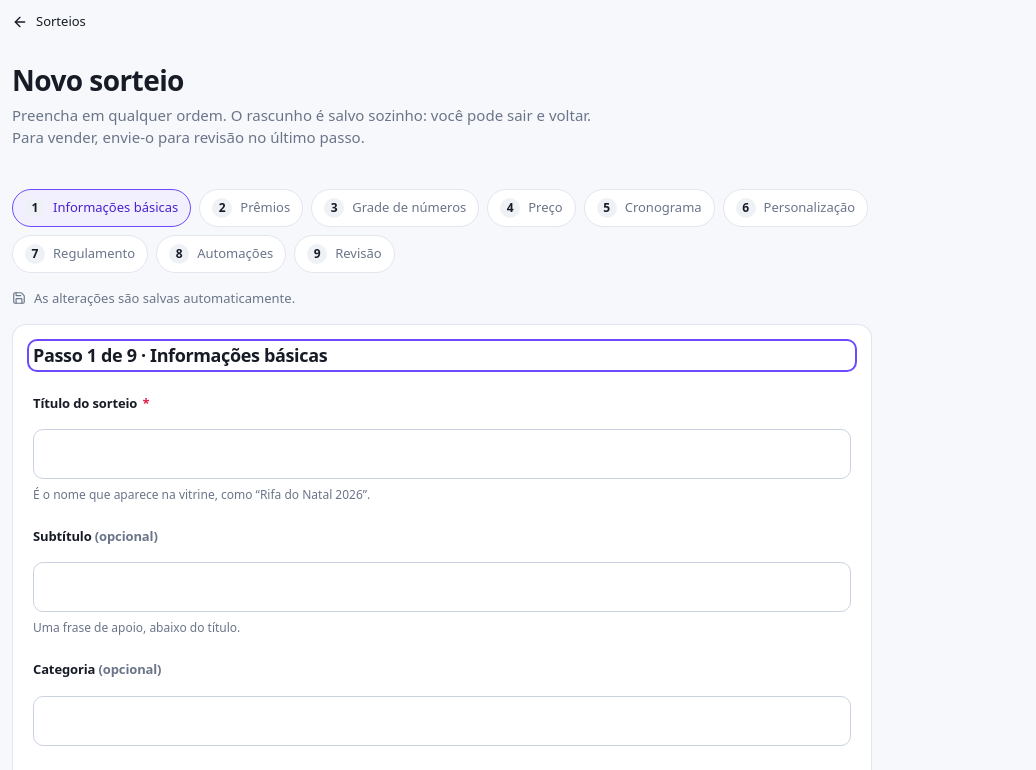
passos › foto do premio e enviada (sem campo de link tecnico); o que ainda nao existe aparece como futuro, sem campos falsos
What coordinates should you click on to do the following:
click the button "2 Prêmios"
I would click on:
 (251, 208)
Its box is left=199, top=189, right=303, bottom=227.
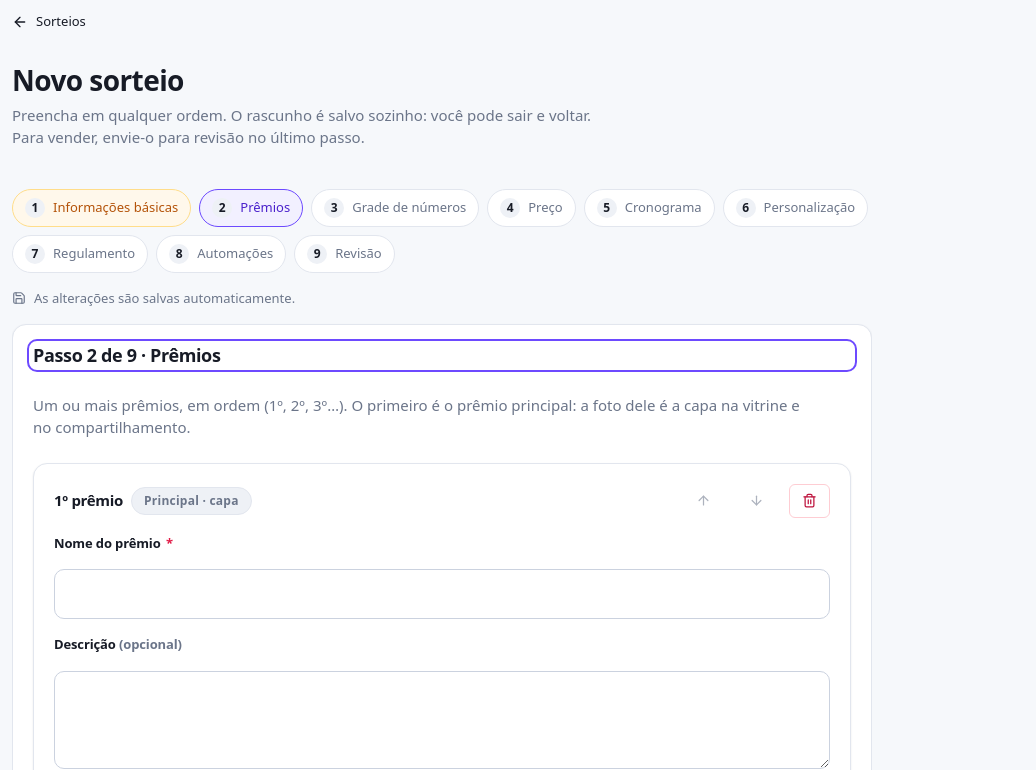
What coordinates should you click on to do the following:
click the button "4 Preço"
I would click on:
 (532, 208)
Its box is left=487, top=189, right=576, bottom=227.
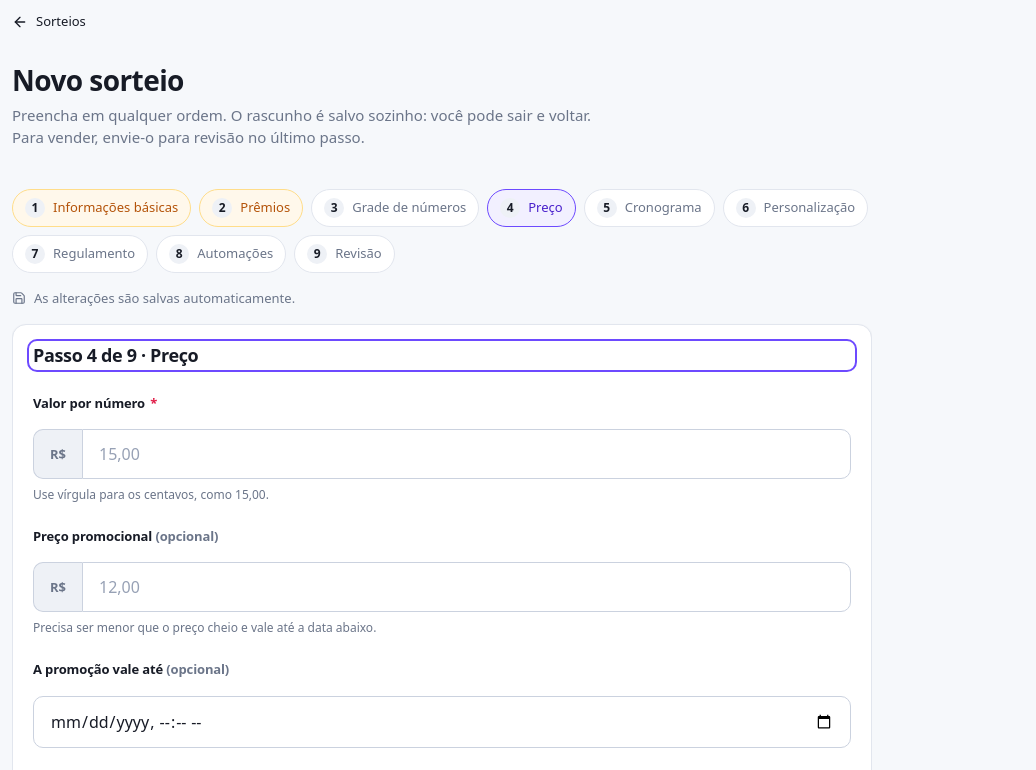
What coordinates should you click on to do the following:
click the button "8 Automações"
I would click on:
 (221, 254)
Its box is left=156, top=235, right=286, bottom=273.
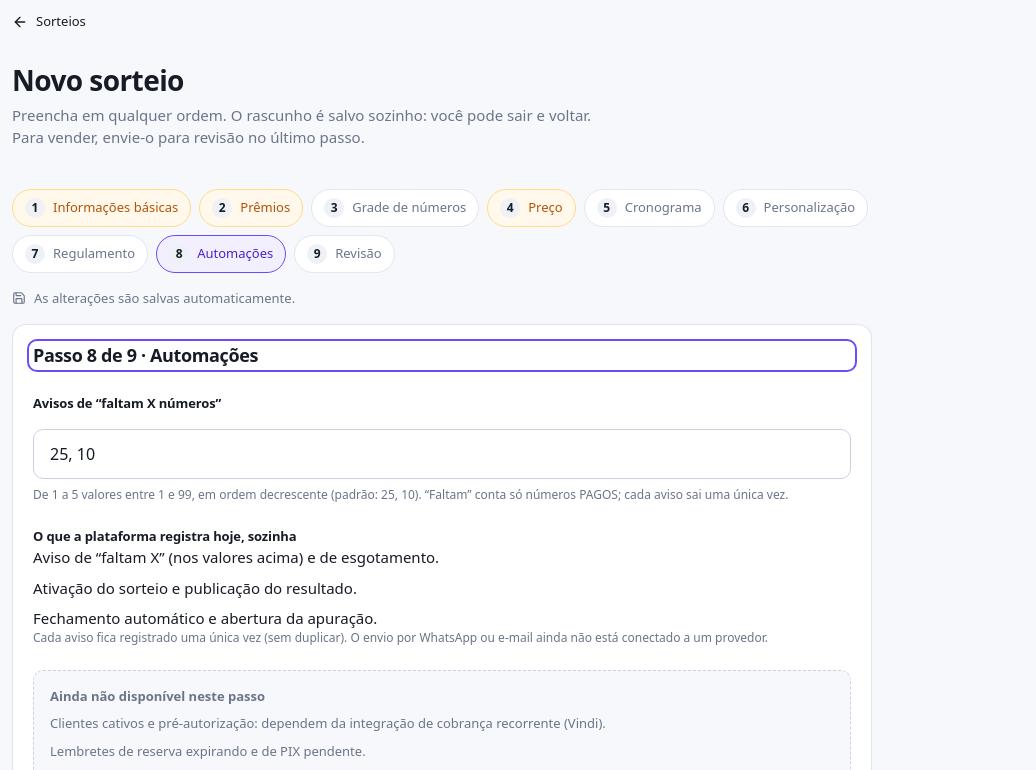
Check: the list item "Clientes cativos e pré-autorização" is shown, box left=50, top=714, right=606, bottom=732
